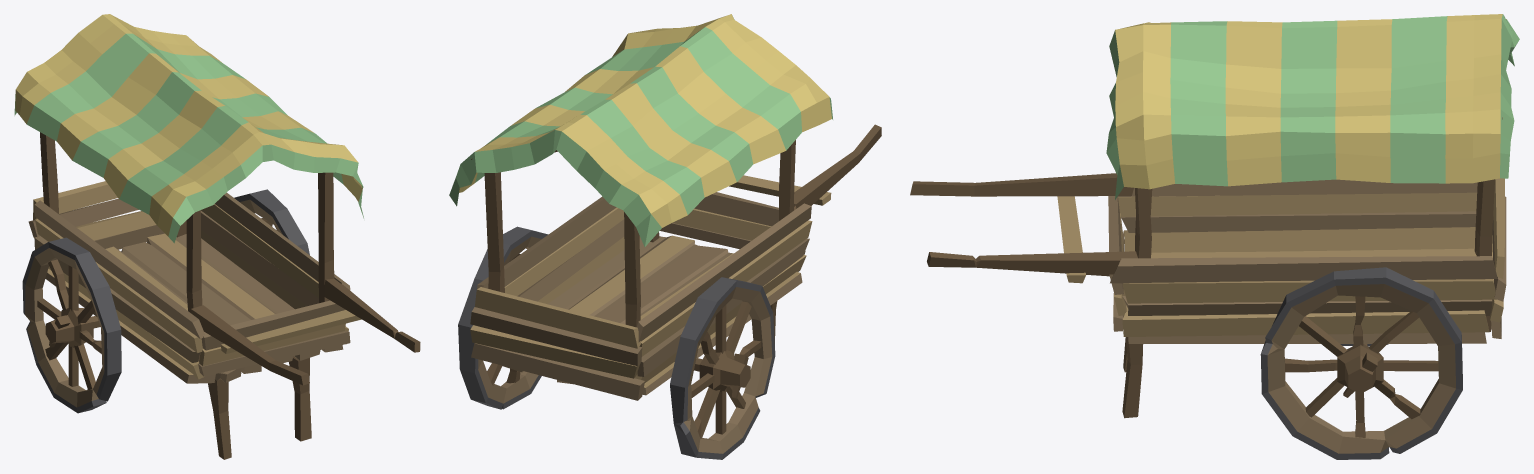
3 renders of one model, left to right at view 1: azimuth 30°, elevation 25°; view 2: azimuth 150°, elevation 25°; view 3: azimuth 270°, elevation 25°, orthographic. The views are drawn at different scales.
Parts seen in each view (by area): view 1: TwP_Prop_Cart_04; view 2: TwP_Prop_Cart_04; view 3: TwP_Prop_Cart_04.
Part boxes in pixels (bbox=[...]): TwP_Prop_Cart_04: bbox=[14, 14, 420, 459]; TwP_Prop_Cart_04: bbox=[449, 14, 881, 459]; TwP_Prop_Cart_04: bbox=[910, 14, 1519, 459].
Bounding box in the file's own units: 1.88 × 2.38 × 3.45.
Materials: 1 (1 with a texture image).
